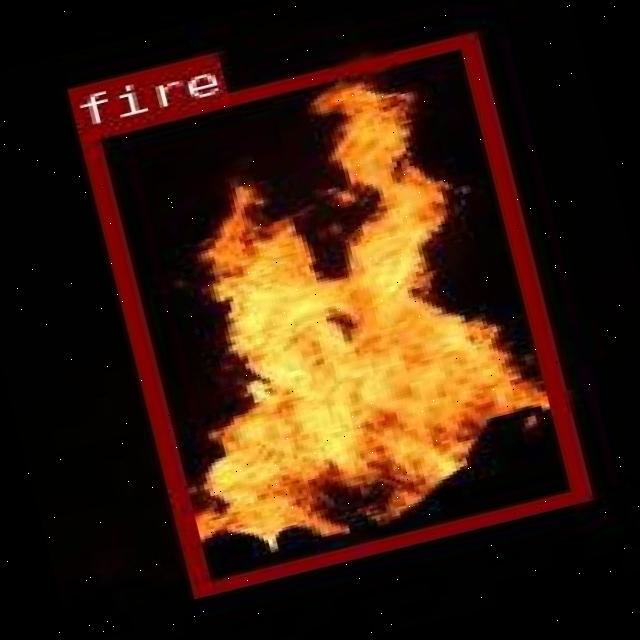fire: (75, 31, 588, 596)
